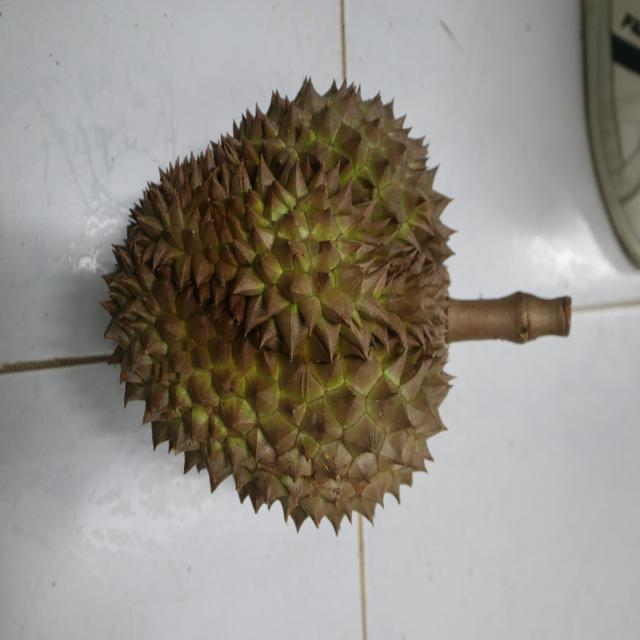mature: (97, 79, 459, 529)
